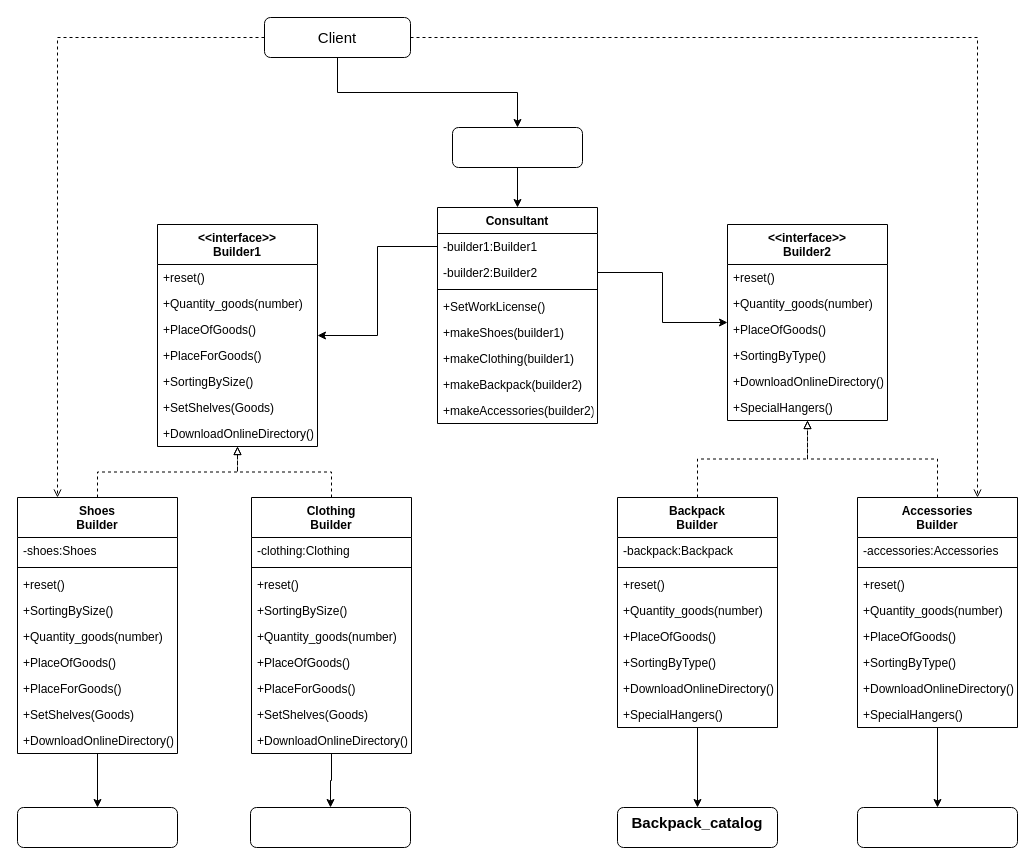
Some shapes in this 1035 by 865 pixel diagram are drawn without their labels. Each missing label, with the centre of its shape:
Accessories _catalog: the point at 937,827
Clothing_catalog: the point at 330,827
Nike_shop: the point at 517,147
Shoe_catalog: the point at 97,827
